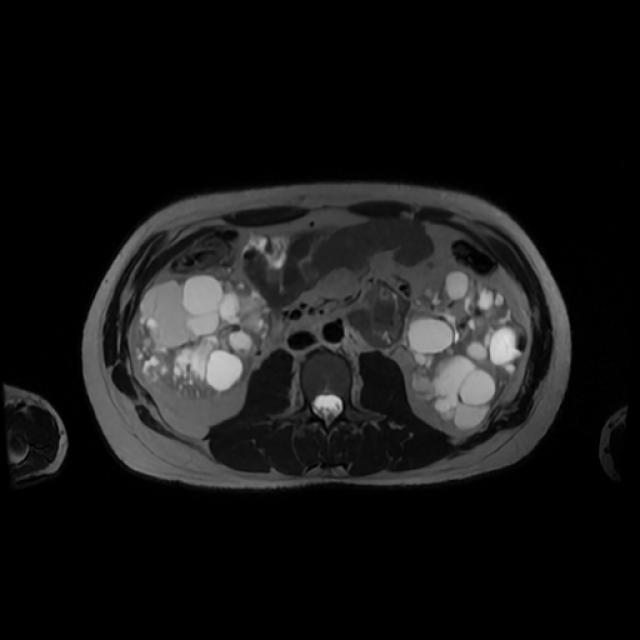sag: (133, 275, 272, 398)
sol: (408, 271, 524, 427)
